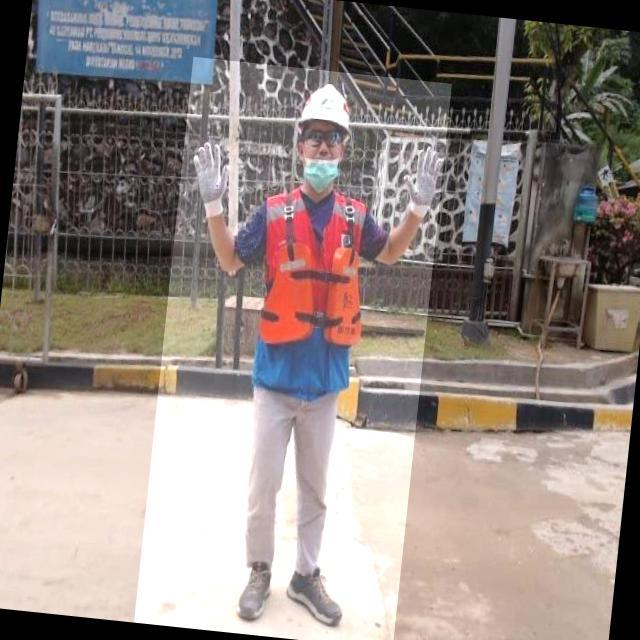Helmet: (296, 80, 357, 136)
Human: (134, 56, 452, 640)
Safety Boot: (282, 561, 348, 632), (233, 556, 277, 625)
Safety Vest: (247, 178, 377, 396)
